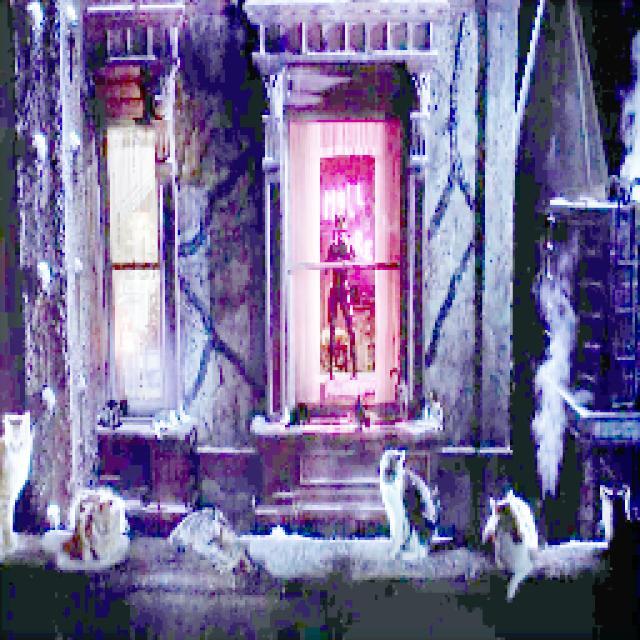cat: (374, 446, 450, 562), (48, 482, 138, 574), (481, 490, 550, 604), (0, 405, 38, 560), (599, 475, 635, 549)
